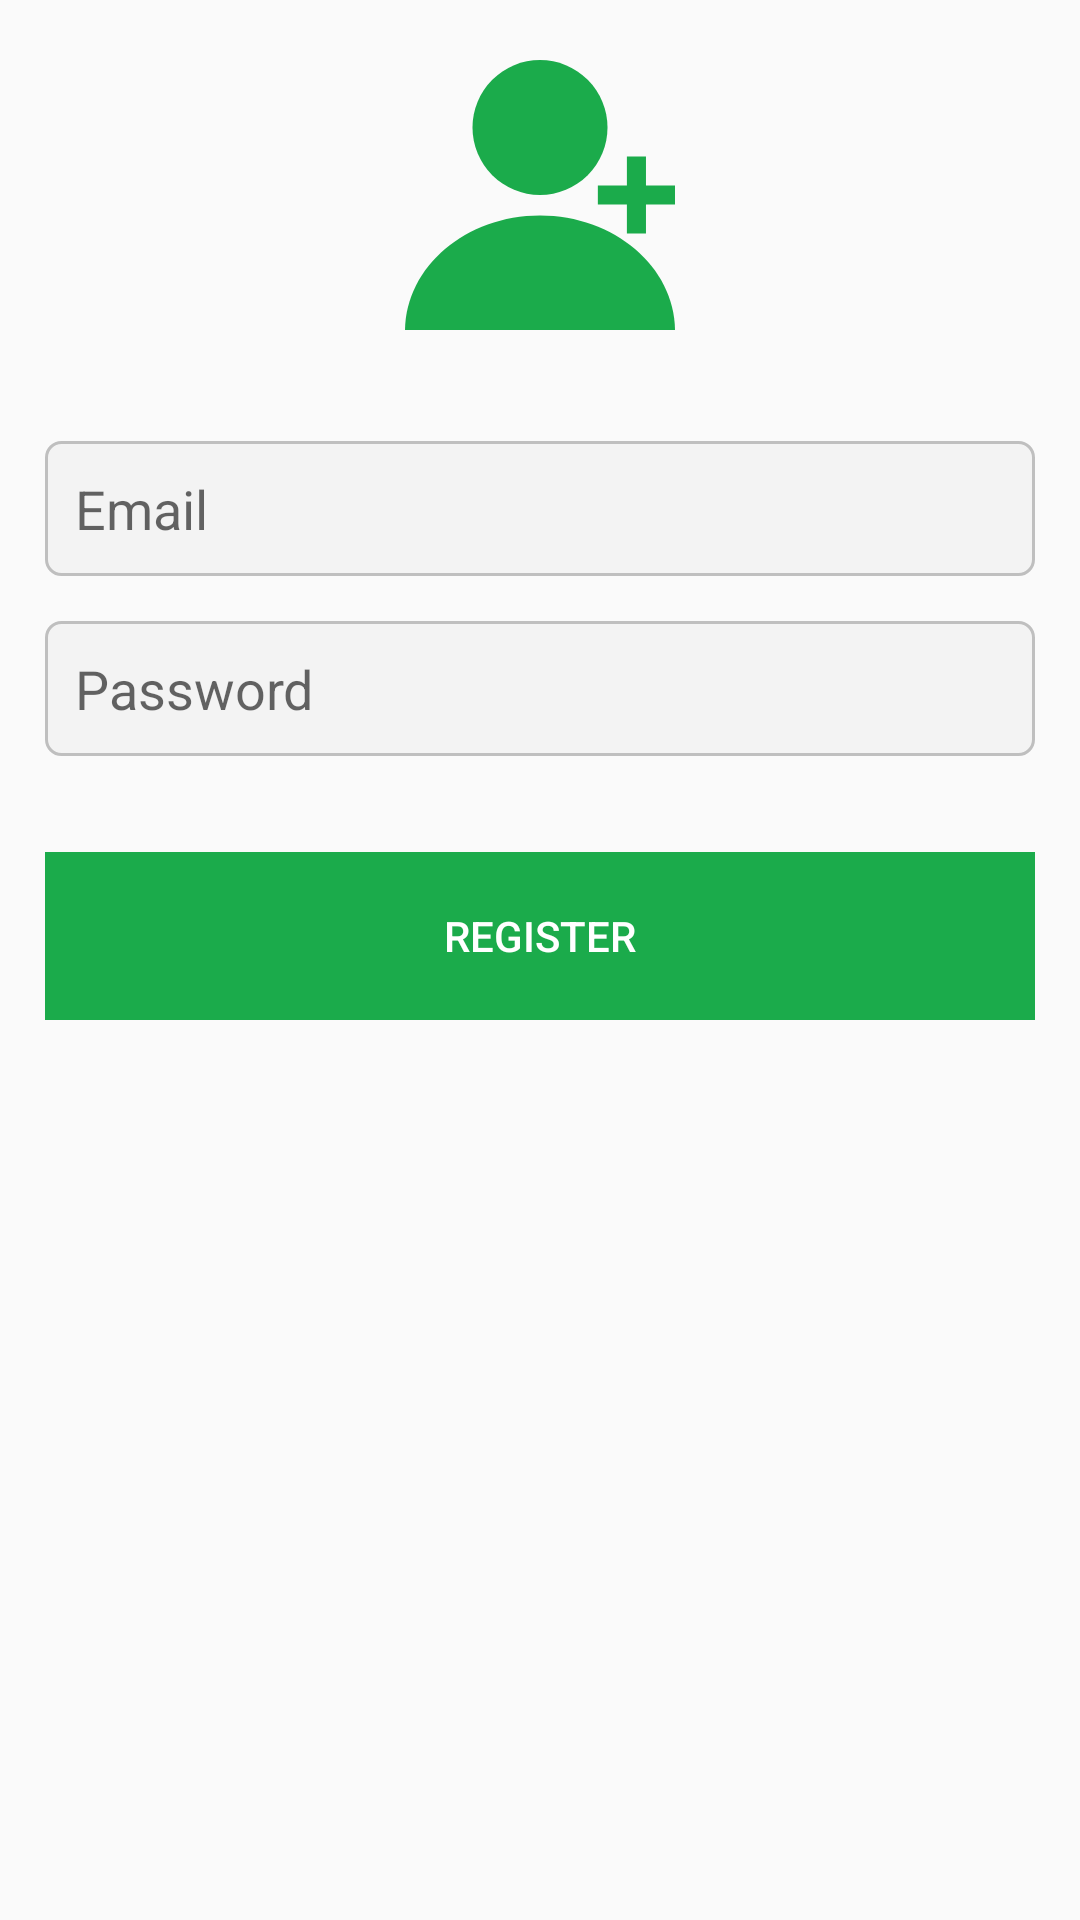

Icon click points for this 1080px x 1920px phone screenshot, format (x=x, y=y):
add user: (x=540, y=195)
